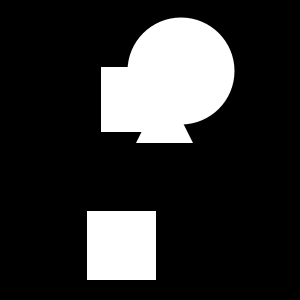circle: (87, 211, 156, 280), (101, 67, 166, 132)
rectangle: (128, 17, 235, 125)
triangle: (136, 86, 193, 143)
